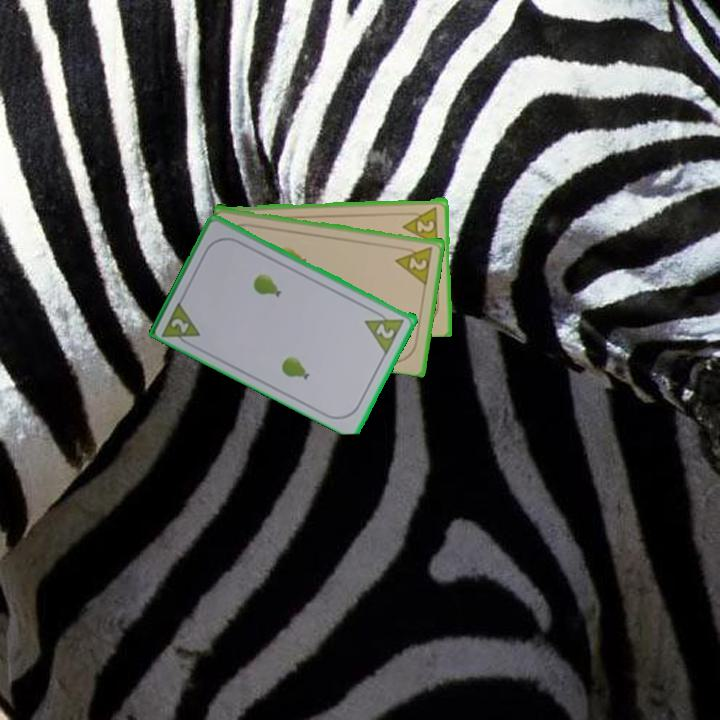2p: (159, 296, 204, 350), (361, 305, 407, 355), (392, 243, 436, 286), (400, 202, 441, 246)
